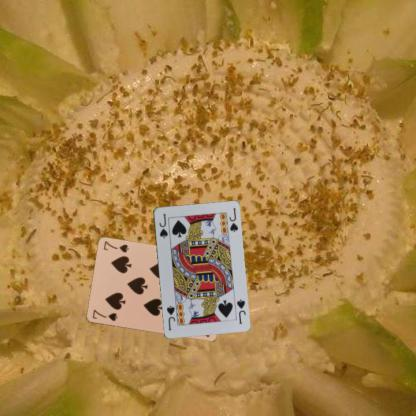7s: (90, 306, 118, 323)
Js: (234, 296, 247, 325), (156, 210, 168, 240)
